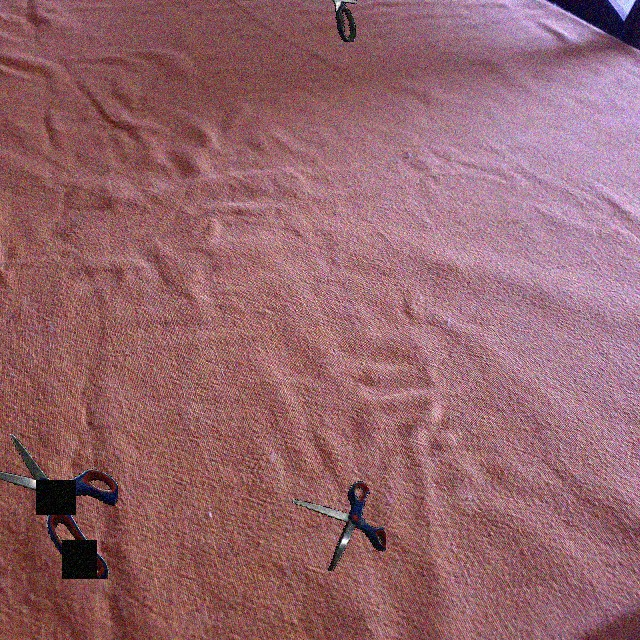scissors: (0, 434, 118, 579), (292, 481, 386, 571), (300, 0, 357, 42)
